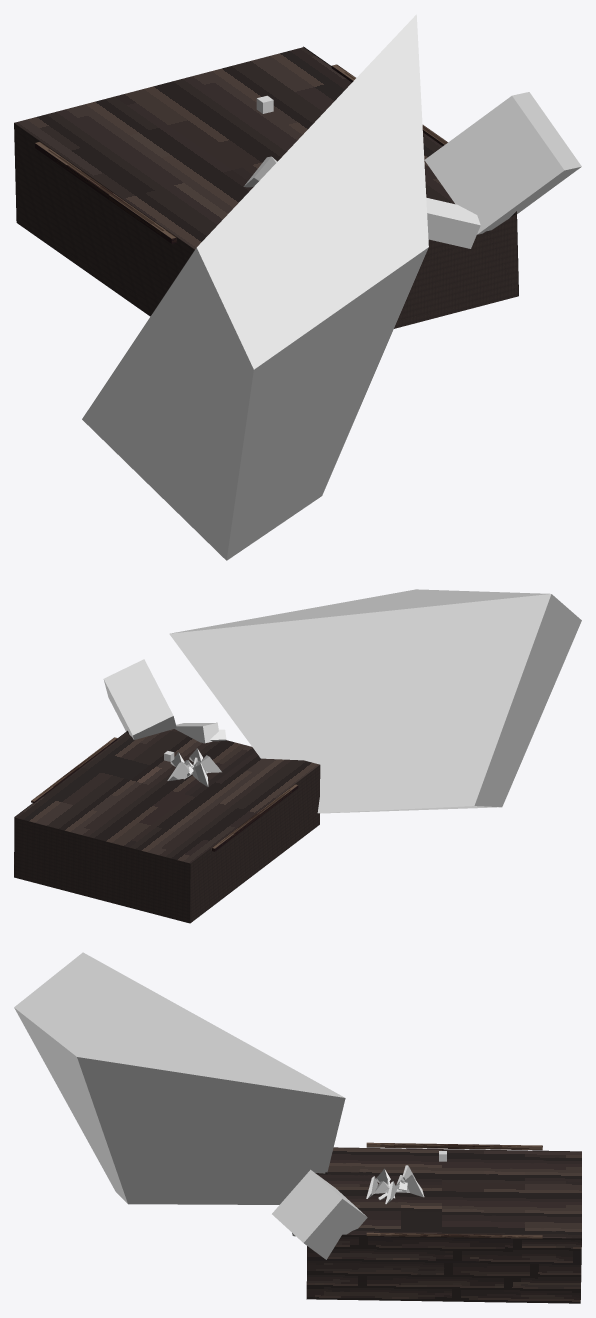
Rendered from brigde_01.fbx.
3 renders of one model, top to bottom at view 1: azimuth 30°, elevation 25°; view 2: azimuth 150°, elevation 25°; view 3: azimuth 270°, elevation 25°, orthographic. The views are drawn at different scales.
Visible parts, largest first — view 1: Cube.001, Bridge__1_, Cube.002, Cube.004, Bricks__1_, Plane_1; view 2: Cube.001, Bridge__1_, Cube.002, Cube.004; view 3: Cube.001, Bridge__1_, Side, Cube.002, side_1.
Part boxes in pixels (box(x1,y1,x2,y2)): Cube.001: box(82, 14, 428, 560); Bridge__1_: box(14, 47, 518, 328); Cube.002: box(424, 92, 581, 234); Cube.004: box(426, 197, 480, 248); Bricks__1_: box(35, 143, 176, 243); Plane_1: box(35, 141, 175, 238); Cube.001: box(169, 589, 581, 813); Bridge__1_: box(14, 729, 320, 923); Cube.002: box(103, 659, 176, 739); Cube.004: box(175, 722, 218, 743); Cube.001: box(14, 952, 345, 1204); Bridge__1_: box(307, 1147, 581, 1263); Side: box(306, 1234, 581, 1303); Cube.002: box(272, 1169, 367, 1259); side_1: box(366, 1144, 542, 1149).
Size of the model in its own units: 10319 by 6121 by 14174.
